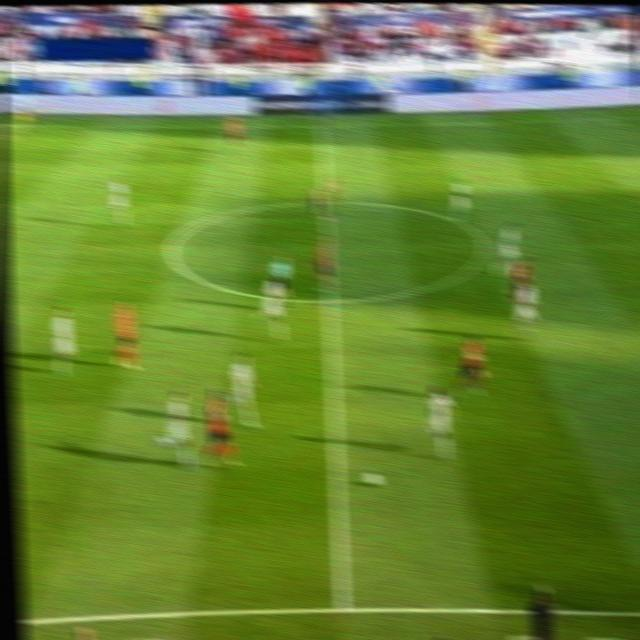halfcircle_bottom: (314, 283, 345, 316)
halfcircle_top: (310, 189, 336, 213)
midline_bottom_intersection: (325, 589, 358, 620)
midline_top_intersection: (311, 114, 331, 135)
